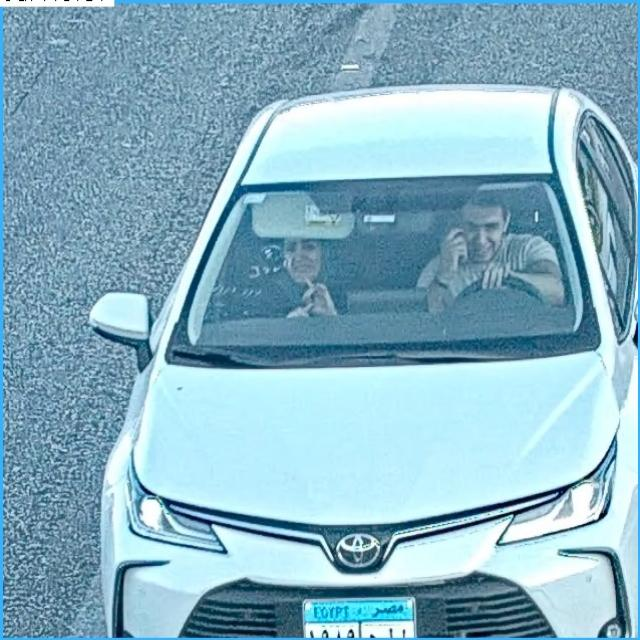windshield: (169, 186, 588, 357)
